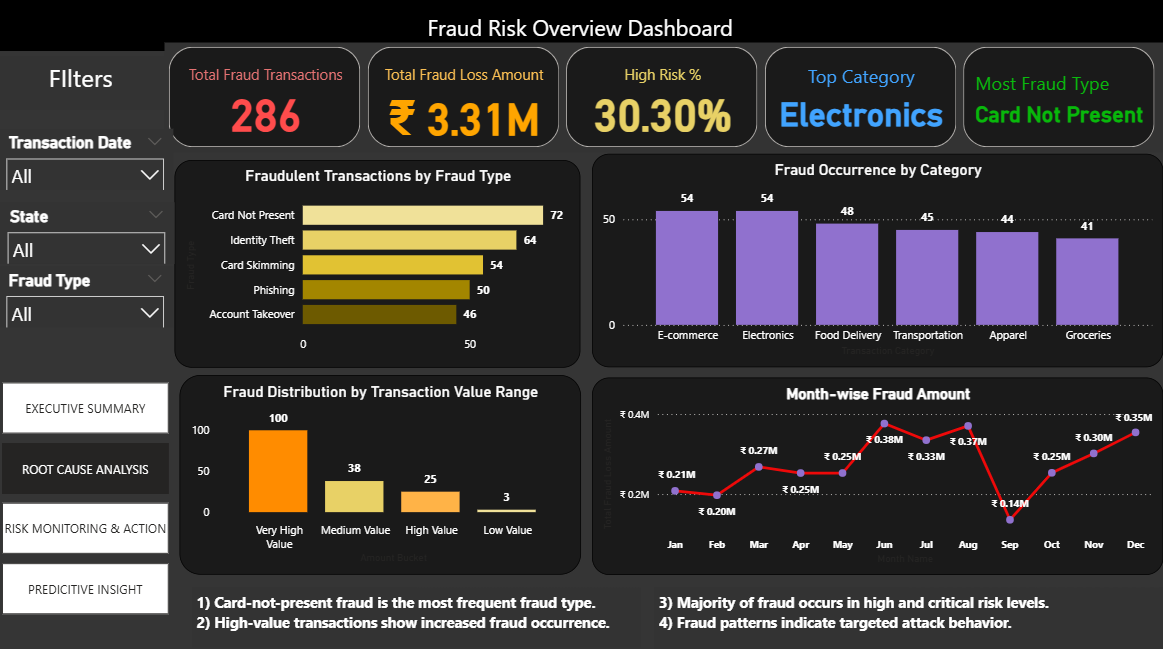

The page's visual inventory and layout, read from the dashboard file:
{"tool":"powerbi","page":{"name":"ROOT CAUSE ANALYSIS","canvas":[1280,720],"ordinal":1},"visuals":[{"type":"textbox","box":[0,0,1280.3,46.7],"z":0},{"type":"textbox","box":[0,10,1280.3,46.7],"z":1000},{"type":"cardVisual","fields":{"Data":["Credit Card Fraud Risk Analysis.Total Fraud Transactions","Credit Card Fraud Risk Analysis.Total Fraud Loss Amount","Credit Card Fraud Risk Analysis.High Risk %","Credit Card Fraud Risk Analysis.Top Category","Credit Card Fraud Risk Analysis.Top Fraud Type"]},"box":[183.6,46.7,1096.4,120.8],"z":2000},{"type":"barChart","title":"Fraudulent Transactions by Fraud Type","fields":{"Category":["Credit Card Fraud Risk Analysis.Fraud Type"],"Y":["Credit Card Fraud Risk Analysis.Total Fraud Transactions"]},"box":[194.9,175.6,446,227.8],"z":3000},{"type":"columnChart","title":"Fraud Occurrence by Category","fields":{"Y":["Credit Card Fraud Risk Analysis.Total Fraud Transactions"],"Category":["Credit Card Fraud Risk Analysis.Transaction Category"]},"box":[653.2,168.8,627.1,234.6],"z":4000},{"type":"slicer","fields":{"Values":["Credit Card Fraud Risk Analysis.Transaction Date.Variation.Date Hierarchy.Month"]},"box":[0,141.3,193.5,67.2],"z":5000},{"type":"textbox","box":[0,61.7,183.9,59],"z":6000},{"type":"slicer","fields":{"Values":["Credit Card Fraud Risk Analysis.State"]},"box":[1.4,222.3,193.5,67.2],"z":7000},{"type":"slicer","fields":{"Values":["Credit Card Fraud Risk Analysis.Fraud Type"]},"box":[0,292.3,193.5,67.2],"z":8000},{"type":"columnChart","title":"Fraud Distribution by Transaction Value Range","fields":{"Y":["Credit Card Fraud Risk Analysis.Total Fraud Transactions"],"Category":["Credit Card Fraud Risk Analysis.Amount Bucket"]},"box":[200.3,411.7,440.5,219.6],"z":9000},{"type":"lineChart","title":"Month-wise Fraud Amount","fields":{"Y":["Credit Card Fraud Risk Analysis.Total Fraud Loss Amount"],"Category":["Date Table.Month Name"]},"box":[653.2,414.4,627.1,216.8],"z":10000},{"type":"pageNavigator","box":[5.5,419.9,183.9,255.2],"z":11000},{"type":"textbox","box":[214.1,644.9,492.6,65.9],"z":12000},{"type":"textbox","box":[721.8,644.9,558.5,75.5],"z":13000}]}

Visuals, with their boxes in screenshot pixels (x1, y1, x2, y2), scaled from the page's 1280x720 canvas onto the 1163x649 screenshot:
textbox: (x1=0, y1=0, x2=1162, y2=42)
textbox: (x1=0, y1=9, x2=1162, y2=51)
cardVisual - Credit Card Fraud Risk Analysis.Total Fraud Transactions x Credit Card Fraud Risk Analysis.Total Fraud Loss Amount: (x1=167, y1=42, x2=1162, y2=151)
"Fraudulent Transactions by Fraud Type" barChart: (x1=177, y1=158, x2=582, y2=364)
"Fraud Occurrence by Category" columnChart: (x1=593, y1=152, x2=1162, y2=364)
slicer - Credit Card Fraud Risk Analysis.Transaction Date.Variation.Date Hierarchy.Month: (x1=0, y1=127, x2=176, y2=188)
textbox: (x1=0, y1=56, x2=167, y2=109)
slicer - Credit Card Fraud Risk Analysis.State: (x1=1, y1=200, x2=177, y2=261)
slicer - Credit Card Fraud Risk Analysis.Fraud Type: (x1=0, y1=263, x2=176, y2=324)
"Fraud Distribution by Transaction Value Range" columnChart: (x1=182, y1=371, x2=582, y2=569)
"Month-wise Fraud Amount" lineChart: (x1=593, y1=374, x2=1162, y2=569)
pageNavigator: (x1=5, y1=378, x2=172, y2=609)
textbox: (x1=195, y1=581, x2=642, y2=641)
textbox: (x1=656, y1=581, x2=1162, y2=648)
